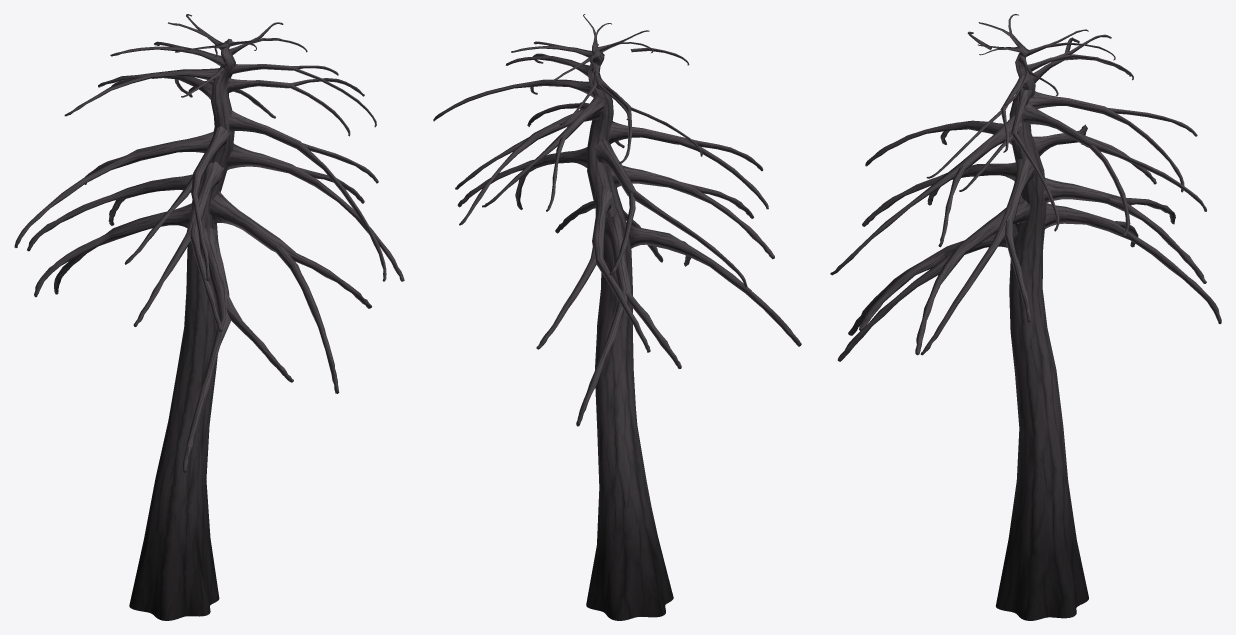
File: deadtree_4.glb
The picture shows the model from 3 angles, left to right: view 1: azimuth 30°, elevation 25°; view 2: azimuth 150°, elevation 25°; view 3: azimuth 270°, elevation 25°; orthographic projection. The views are drawn at different scales.
Parts seen in each view (by area): view 1: DeadTree_4; view 2: DeadTree_4; view 3: DeadTree_4.
Part boxes in pixels (x1,y1,x2,y2): DeadTree_4: (14, 14, 404, 620); DeadTree_4: (433, 14, 801, 620); DeadTree_4: (830, 14, 1221, 620).
Size of the model in its own units: 7.96 by 12.77 by 7.73.
Materials: 1 (1 with a texture image).
